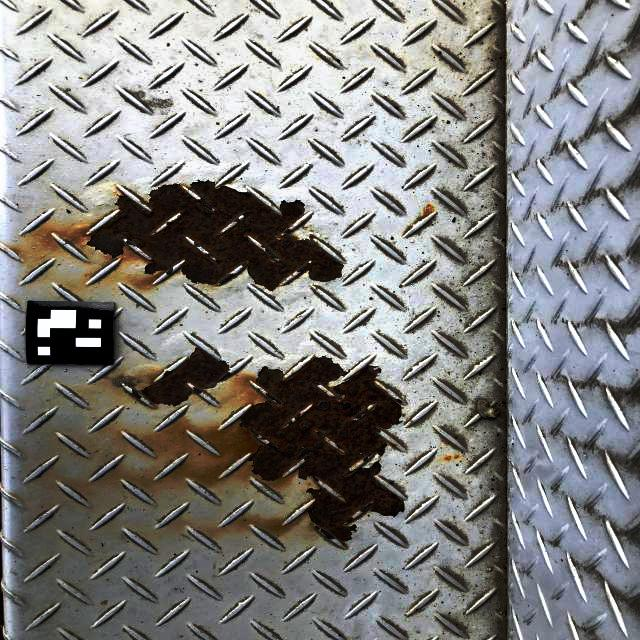Corrosion: (240, 357, 405, 543), (87, 181, 344, 291), (128, 348, 231, 406), (0, 530, 4, 640)
